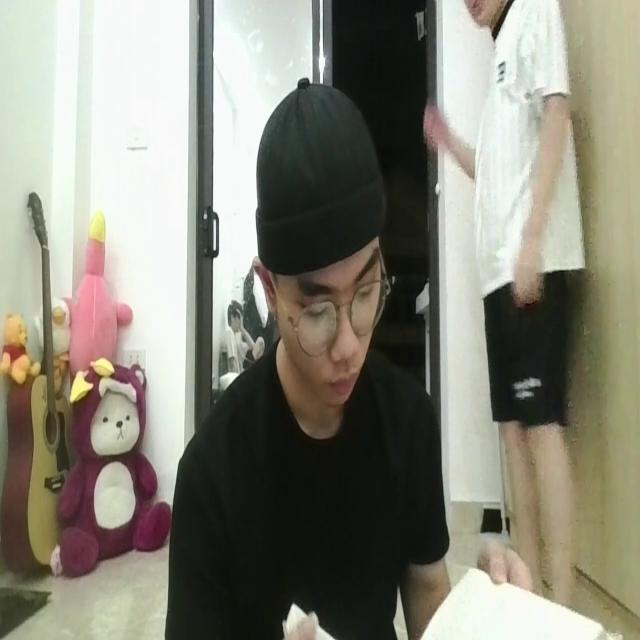book: (423, 554, 606, 640)
extra_person: (438, 0, 612, 570)
student: (165, 75, 448, 640)
